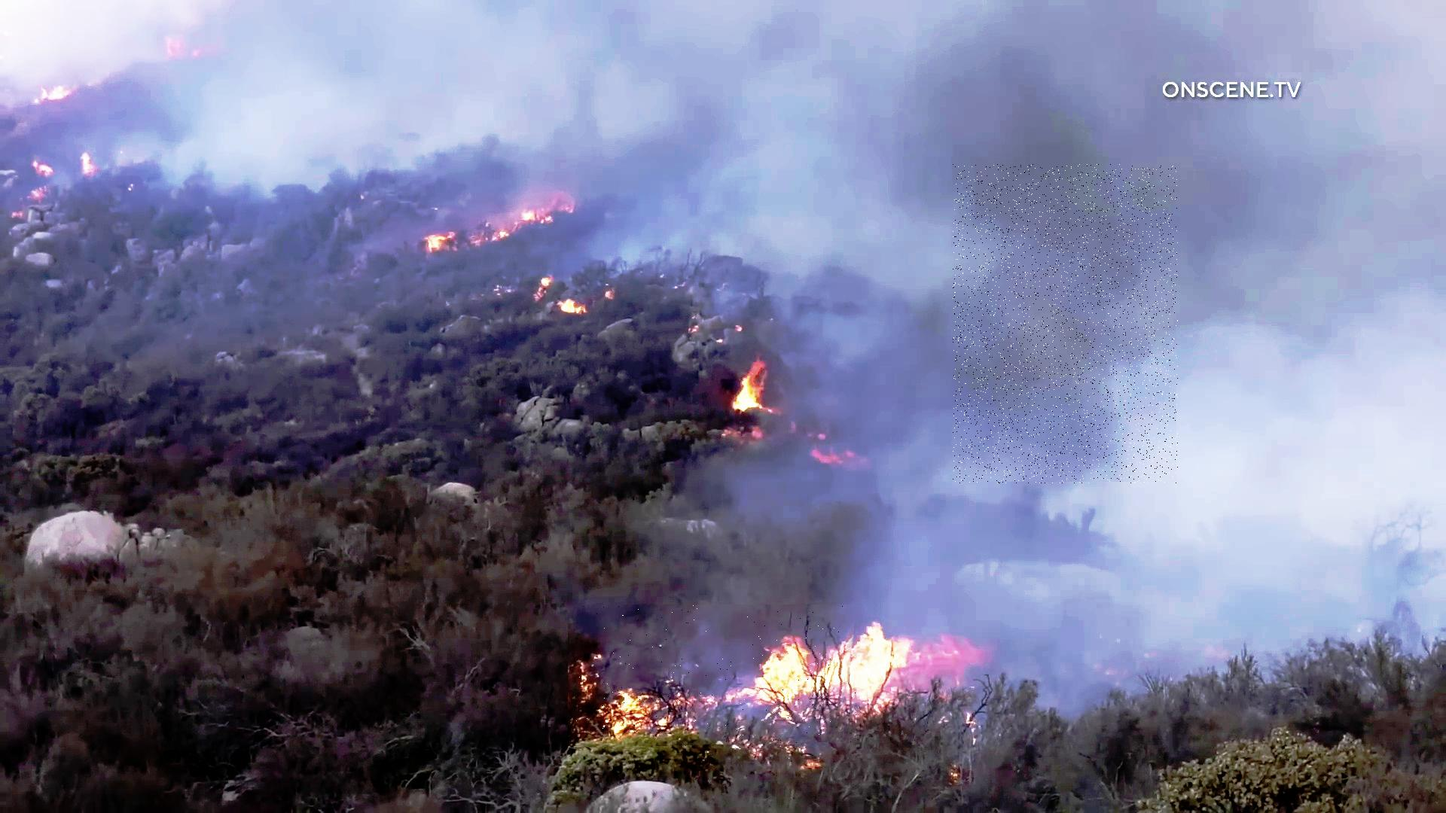fire: (568, 605, 859, 748)
smoke: (953, 165, 1178, 484)
